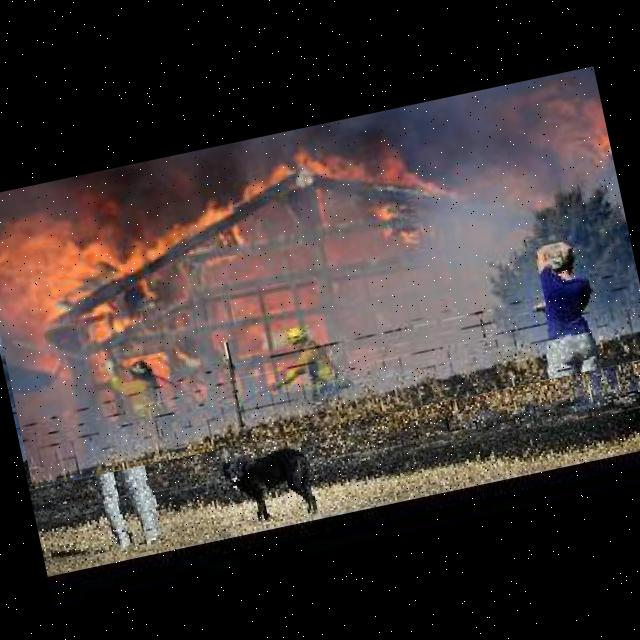fire: (0, 65, 640, 488)
